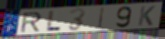3: (67, 7, 89, 32)
9: (115, 6, 133, 29)
I: (97, 7, 106, 30)
K: (137, 5, 157, 27)
L: (45, 10, 63, 32)
R: (20, 11, 43, 33)
